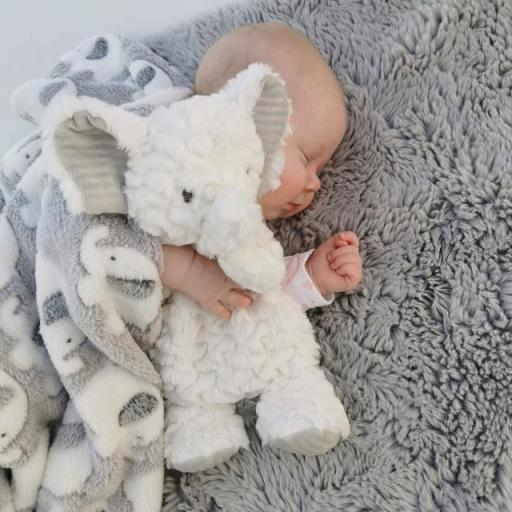baby: (160, 22, 360, 319)
